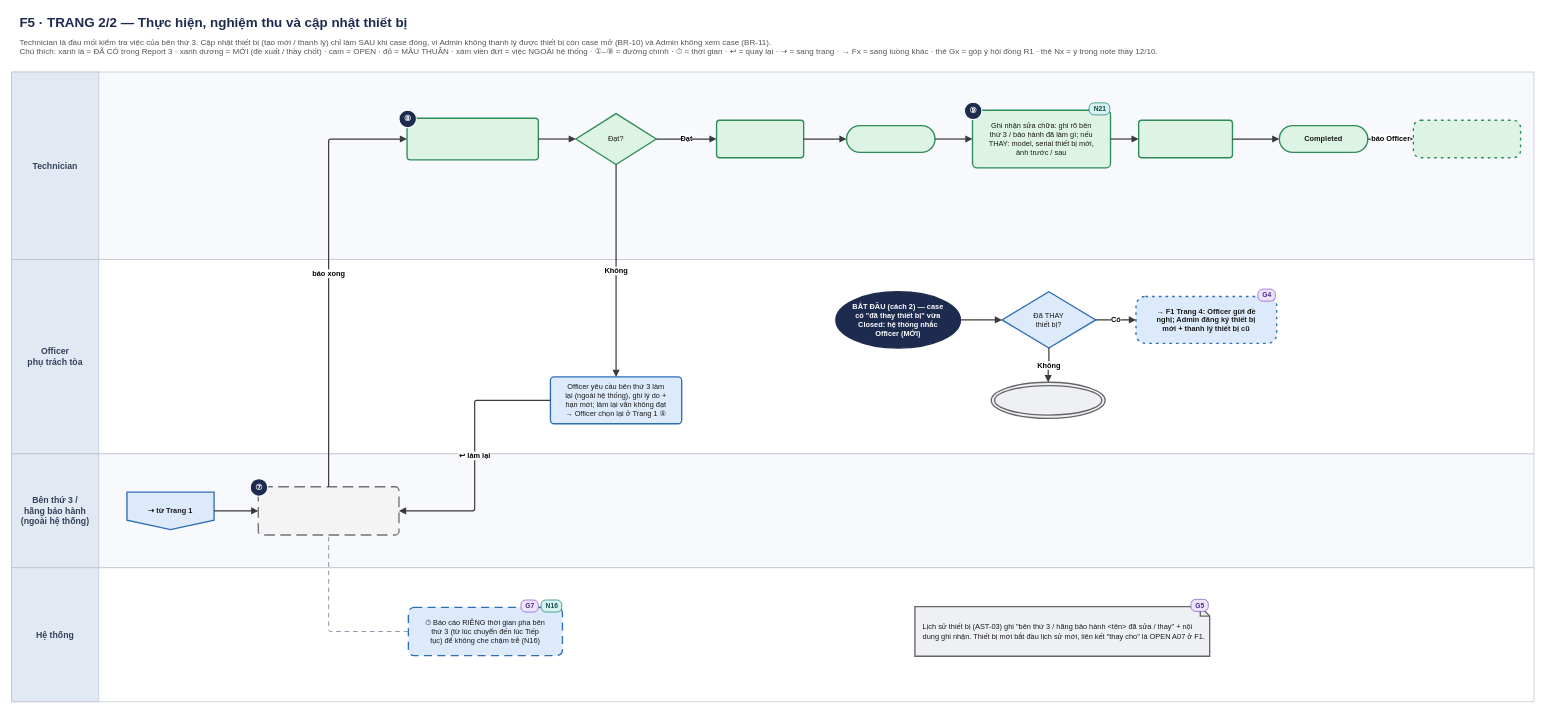
Image size: 1546x714. Some labels were removed from this diagram. The box of each missing label's shape, as (x1, y1, x2, y2) in pixels:
Báo hoàn thành (DLG-11): (1138, 119, 1233, 158)
Bên thứ 3 / hãng bảo hành sửa, hoặc cung cấp + lắp thiết bị mới (ngoài hệ thống): (257, 486, 399, 535)
In Progress: (846, 125, 935, 153)
KẾT THÚC (chỉ sửa: thiết bị giữ nguyên): (990, 381, 1106, 419)
Technician đầu mối kiểm tra kết quả tại hiện trường: (406, 117, 539, 160)
Tiếp tục (Resume): (716, 119, 804, 158)
→ F3 Trang 4 nghiệm thu & đóng: (1412, 119, 1521, 158)
